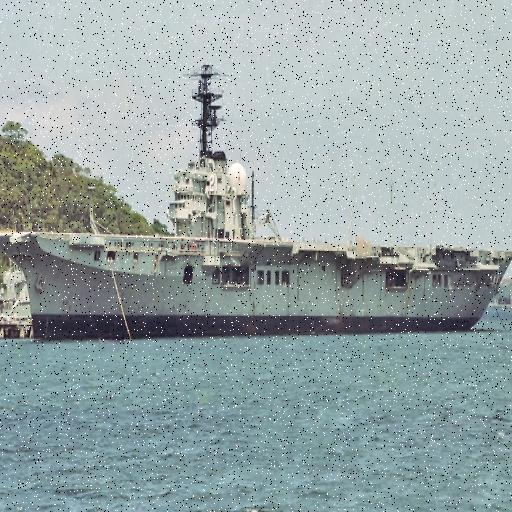Portanaves: (1, 60, 512, 348)
